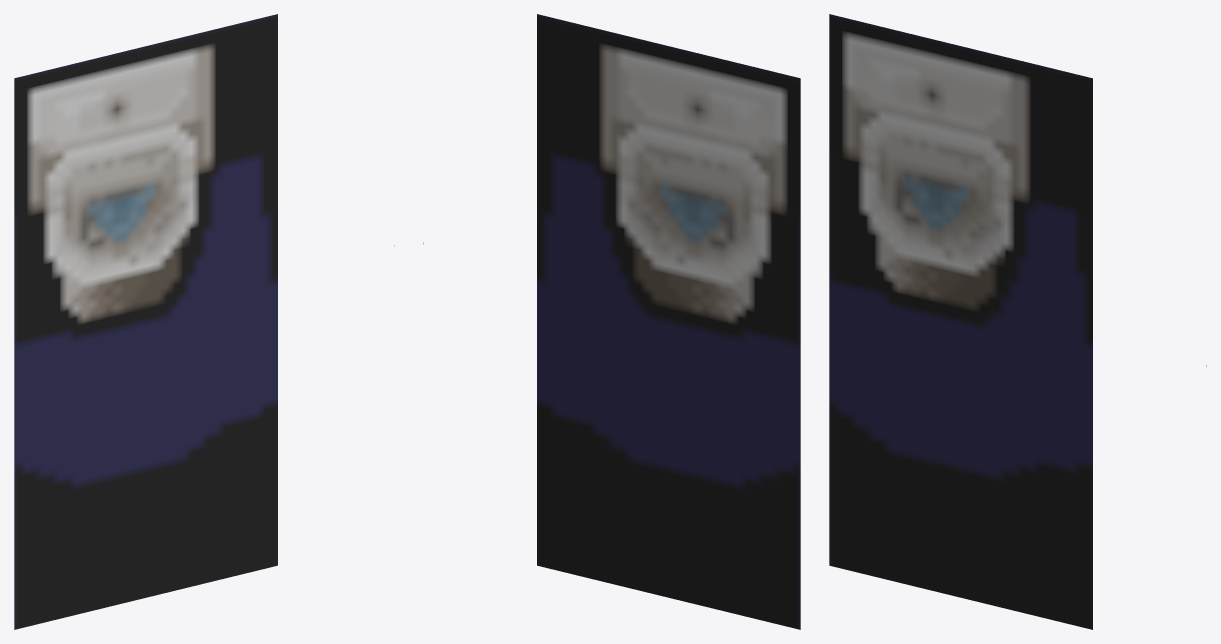
The model's file is Toilet_Down.glb.
3 views of the same model, side by side, from view 1: azimuth 30°, elevation 25°; view 2: azimuth 150°, elevation 25°; view 3: azimuth 330°, elevation 25° (orthographic).
Visible parts, largest first — view 1: pPlane1; view 2: pPlane1; view 3: pPlane1.
Part boxes in pixels (left/top/right/bottom): pPlane1: left=14, top=14, right=277, bottom=629; pPlane1: left=537, top=14, right=800, bottom=629; pPlane1: left=829, top=14, right=1092, bottom=629.
Bounding box in the file's own units: 1.44 × 2 × 0.01.
2 materials, 2 textured.
